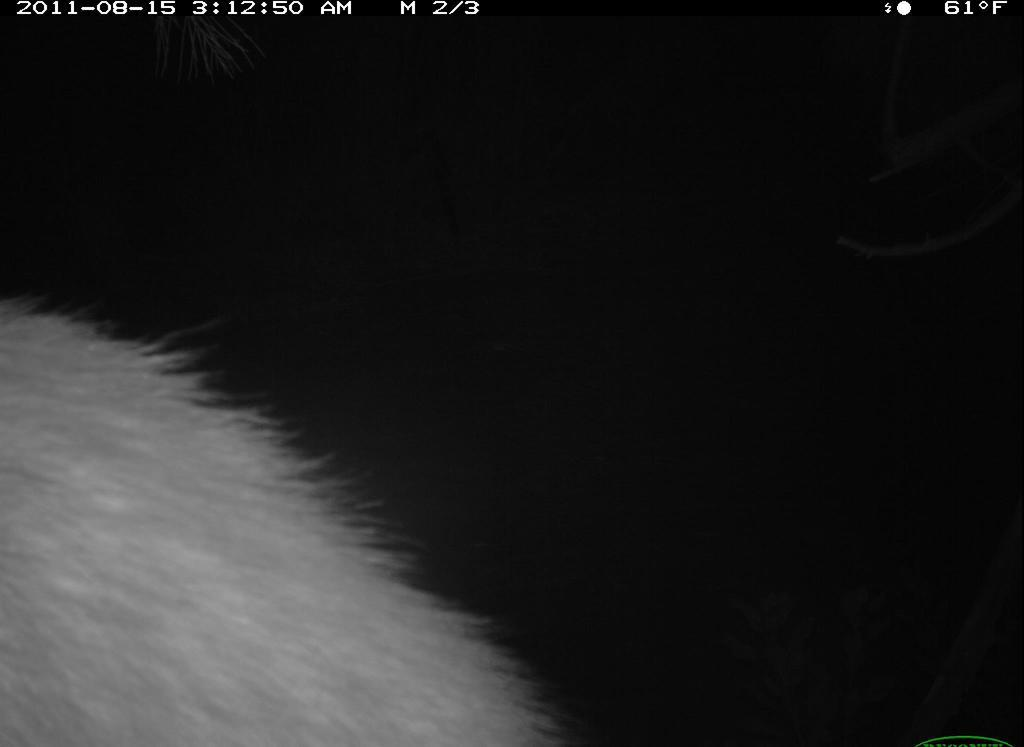raccoon: (1, 287, 583, 747)
